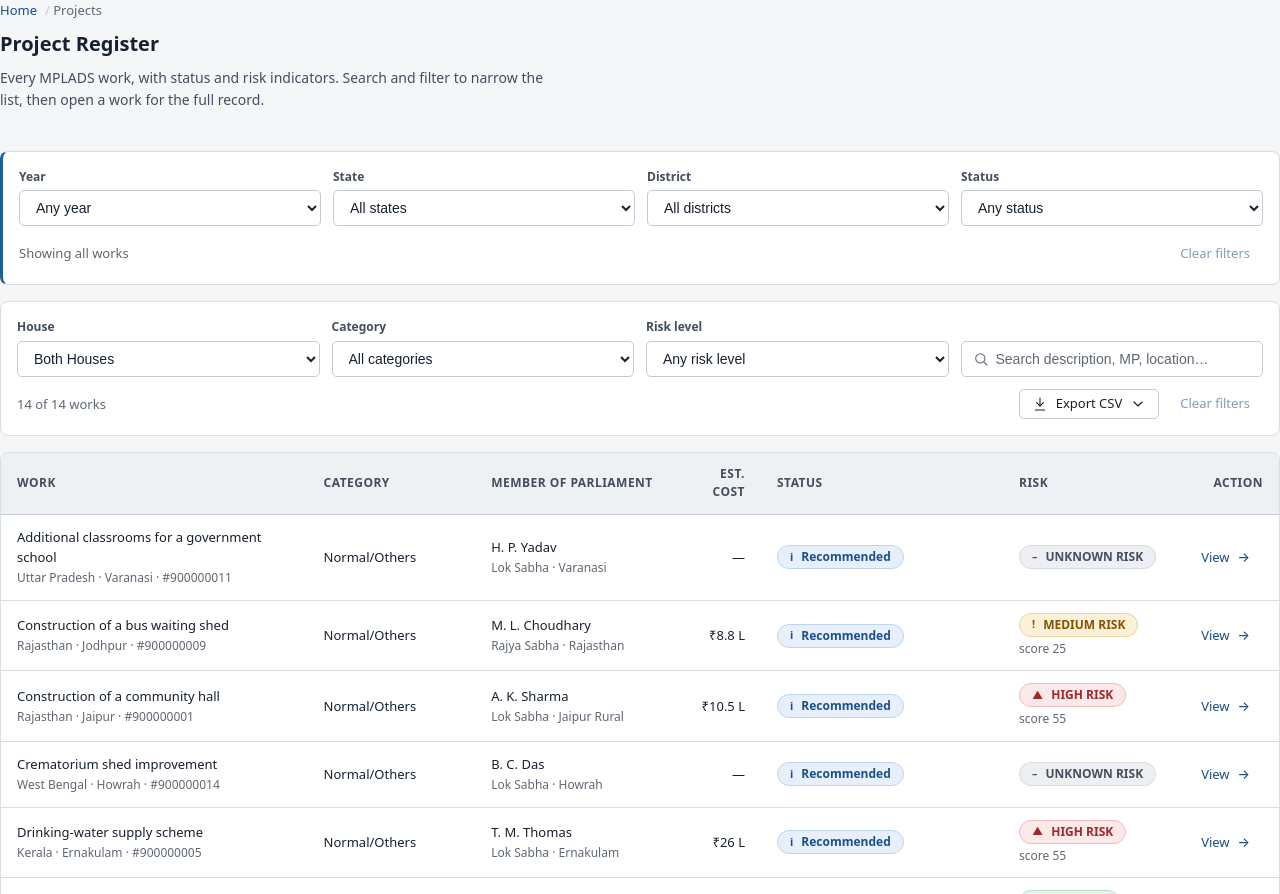
Test: ProjectRegister › filters by risk level
Select "UNKNOWN risk" in the dropdown labelled "Risk level" at {"x": 797, "y": 359}, box [646,341,948,377]
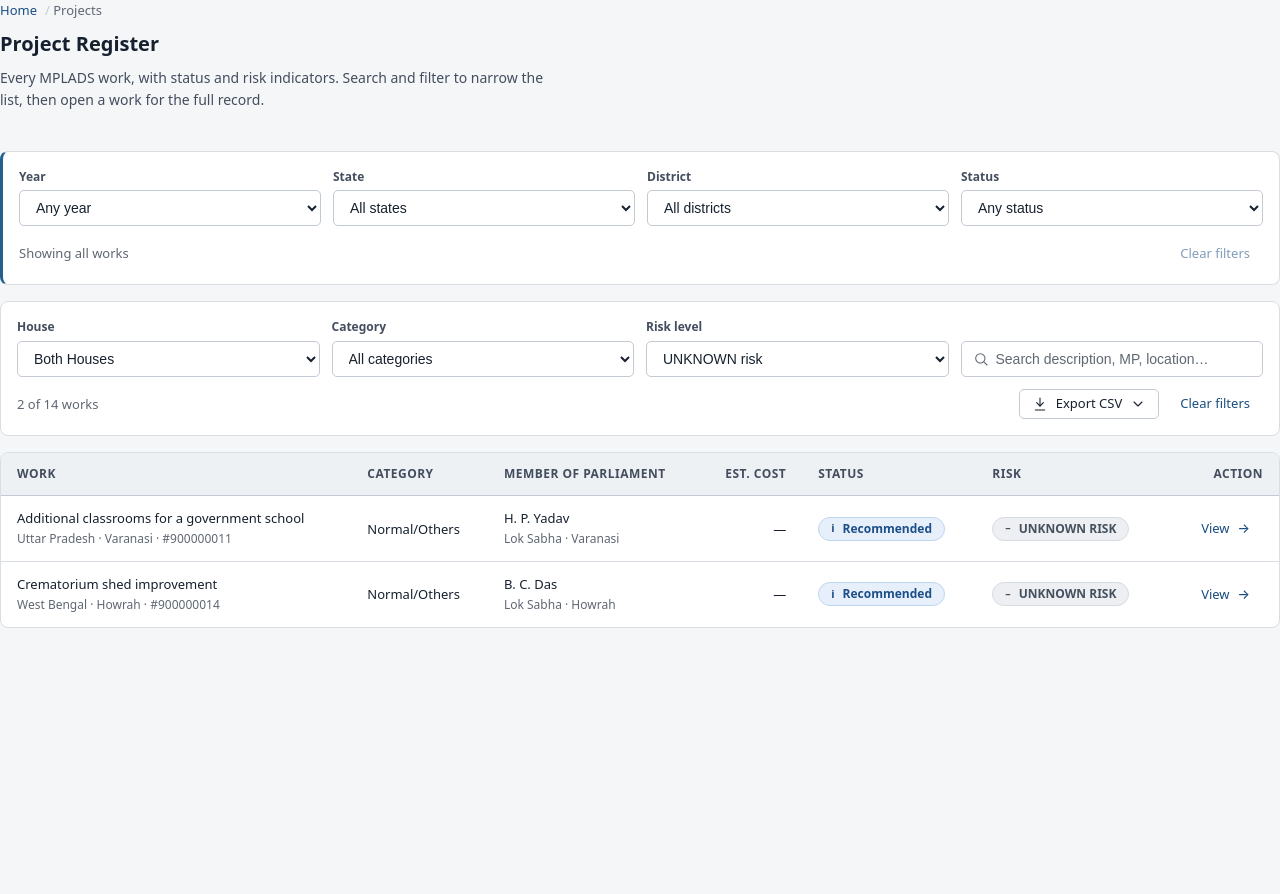
Now the text "HIGH RISK" is gone
